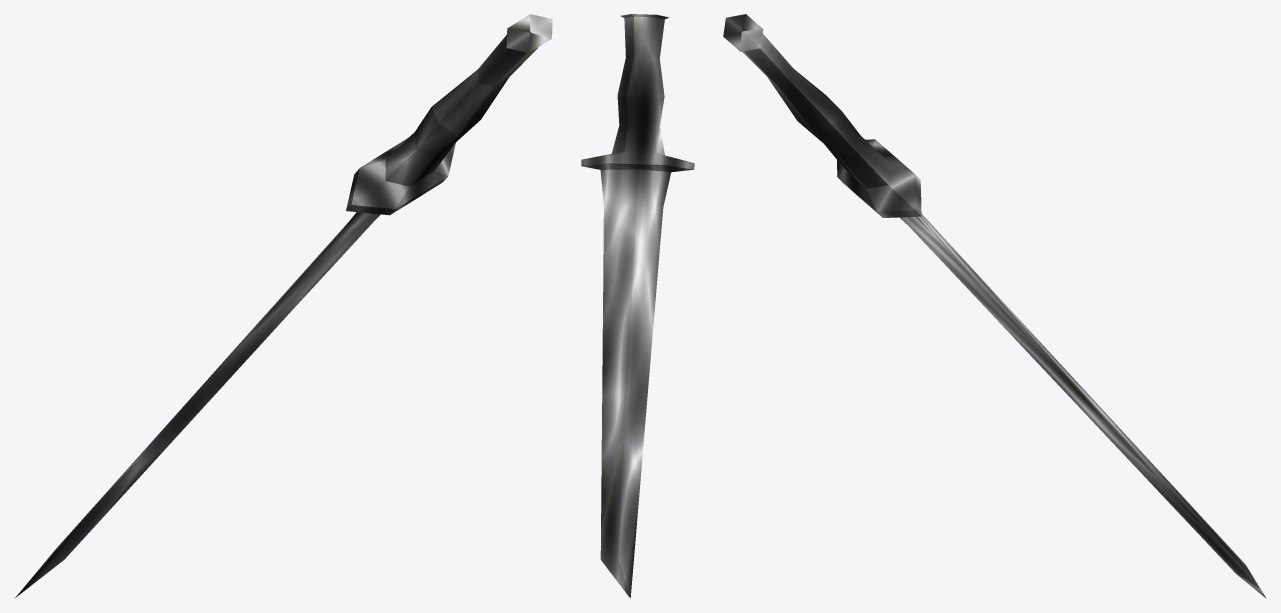
3 renders of one model, left to right at view 1: azimuth 30°, elevation 25°; view 2: azimuth 150°, elevation 25°; view 3: azimuth 270°, elevation 25°, orthographic. The views are drawn at different scales.
Parts seen in each view (by area): view 1: J4; view 2: J4; view 3: J4.
Part boxes in pixels (x1,y1,x2,y2): J4: (15, 14, 552, 597); J4: (581, 14, 694, 598); J4: (723, 14, 1265, 597).
Bounding box in the file's own units: 0.9616 × 2.35 × 1.67.
